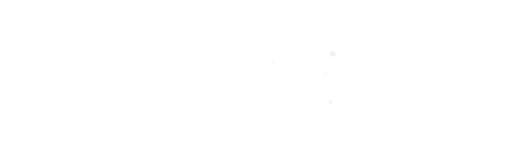letter: (422, 35, 454, 107), (451, 35, 483, 104), (51, 54, 83, 120), (314, 41, 342, 113), (288, 41, 316, 113), (368, 38, 396, 107), (179, 47, 207, 116), (342, 38, 368, 110), (262, 41, 288, 113), (396, 38, 422, 107), (236, 44, 260, 116), (156, 50, 182, 116), (106, 47, 130, 116), (132, 47, 156, 116), (208, 47, 232, 116), (80, 50, 104, 119), (28, 53, 54, 116)
